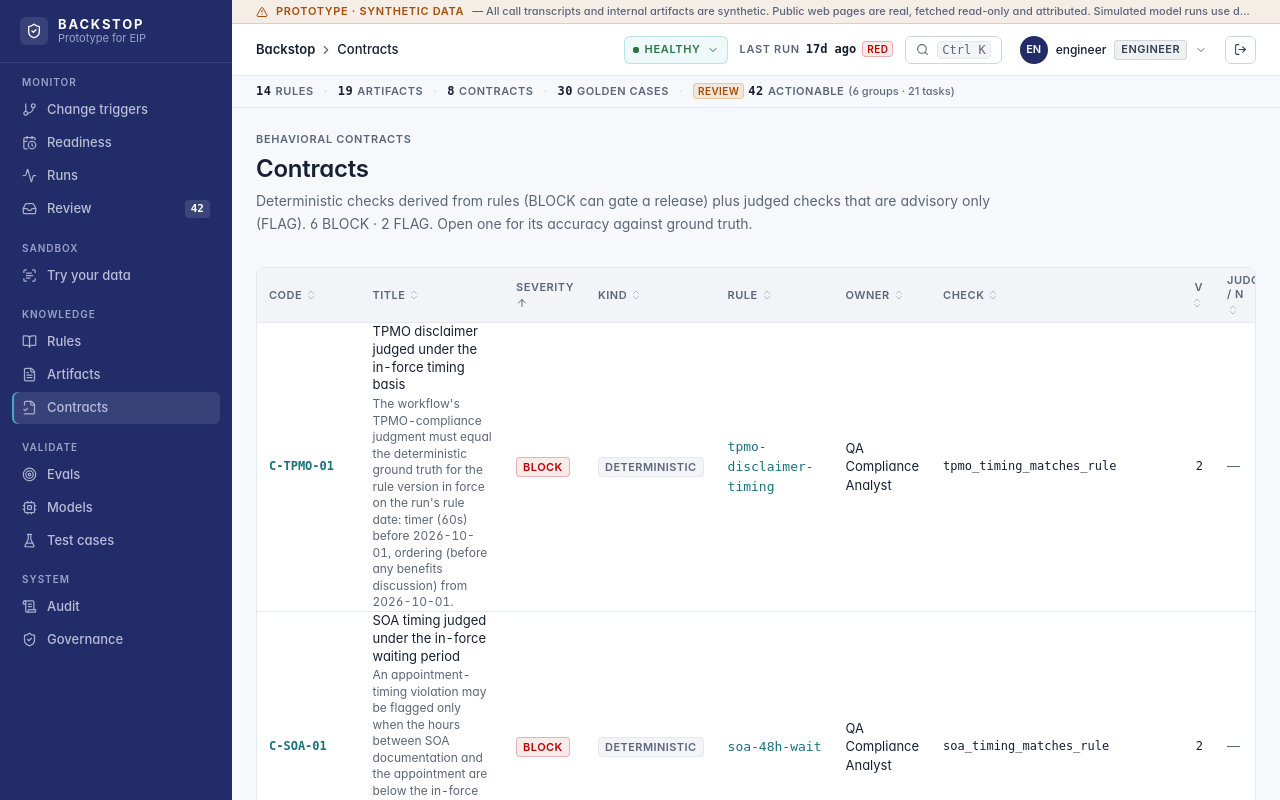
Test: screens against the mock API › contract detail shows the matrix, the slices and the trend, and links back from the registry
Click the link "C-TPMO-01" at (302, 466), box left=269, top=459, right=334, bottom=473
(page scrolled)
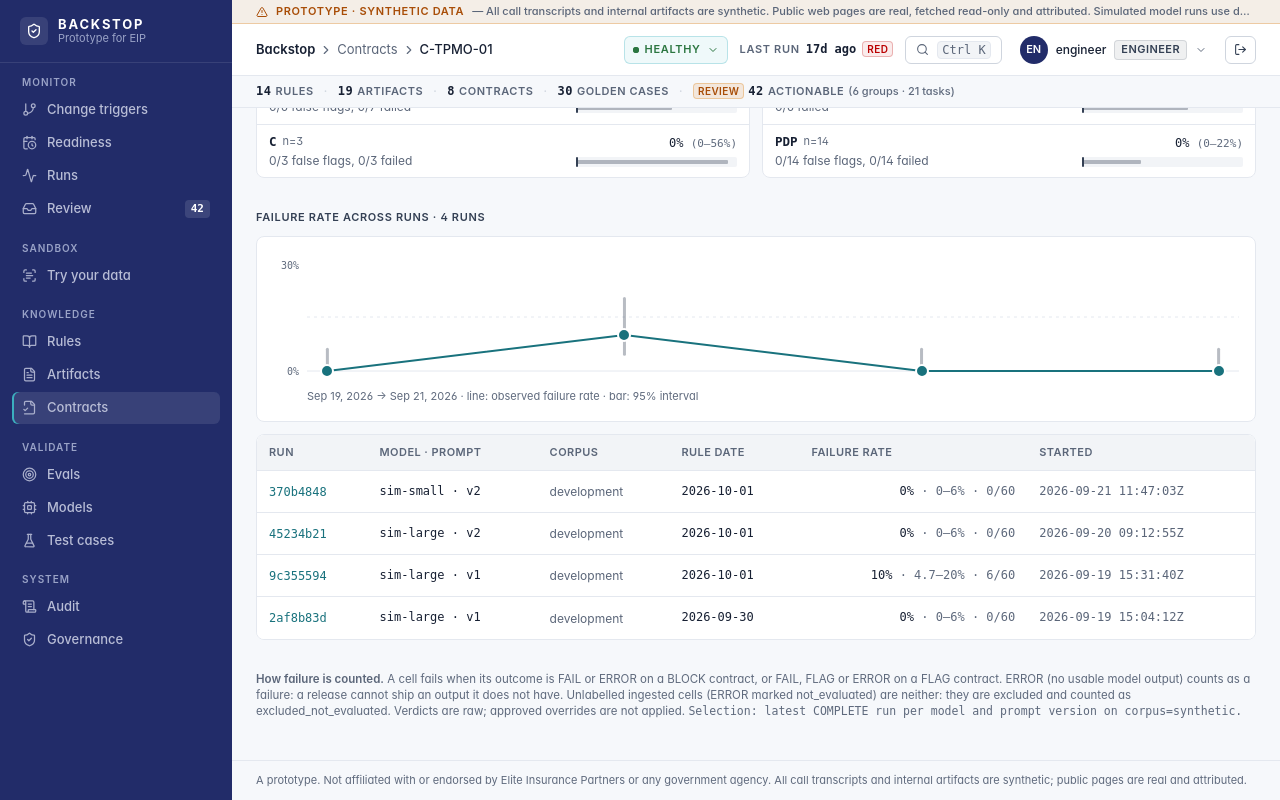
expect the table named "Failure rate per run" is shown: met, box left=257, top=435, right=1255, bottom=639
